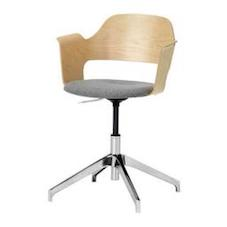chair: (34, 0, 191, 220)
